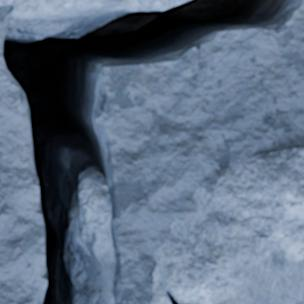brick: (151, 147, 303, 303), (0, 0, 97, 11)
crack: (0, 0, 301, 303), (166, 289, 194, 303)
